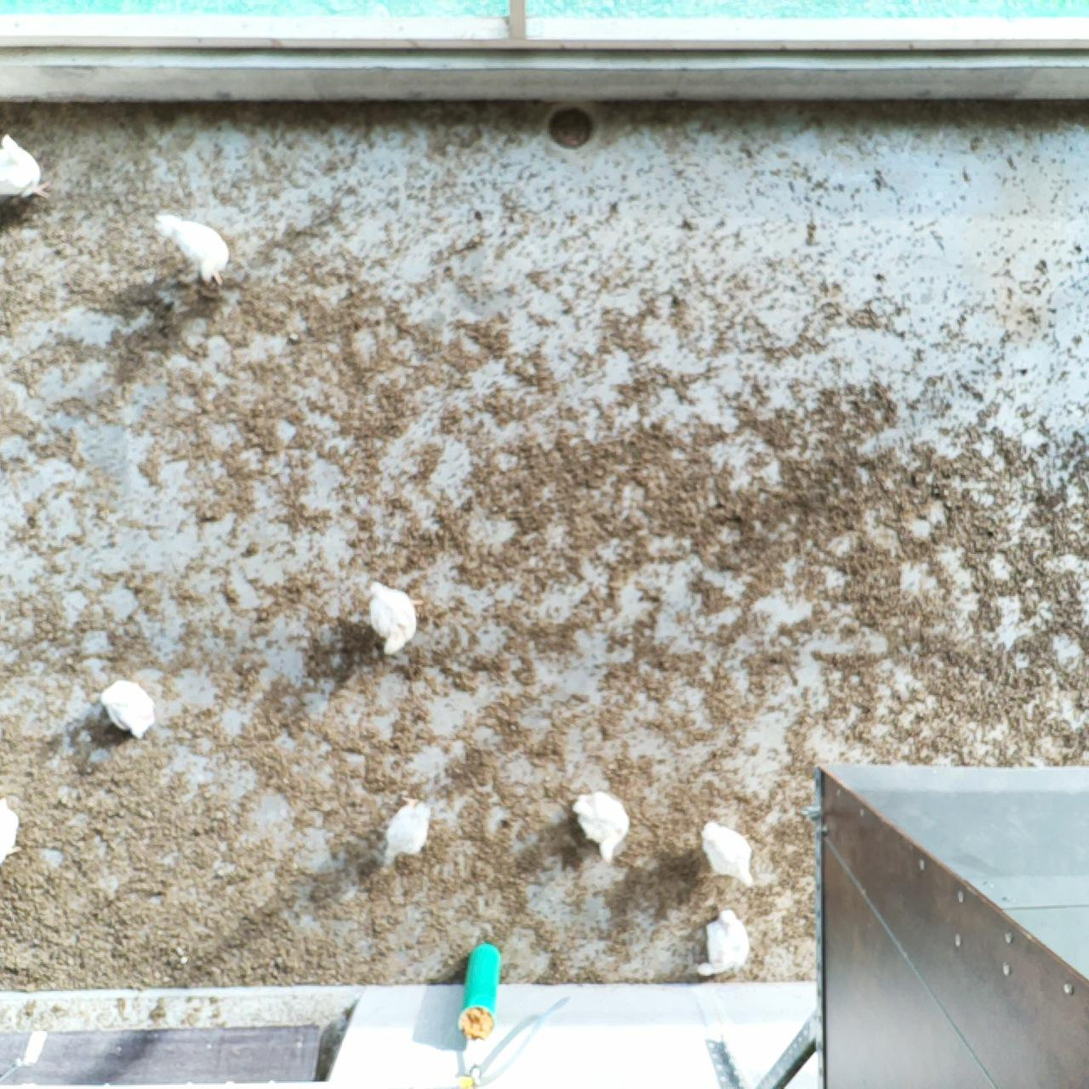chicken: (148, 210, 238, 292), (359, 577, 430, 661), (568, 787, 638, 867), (693, 815, 761, 893), (373, 791, 438, 871), (0, 129, 59, 211), (689, 907, 755, 980), (96, 675, 160, 748), (0, 793, 25, 869)
